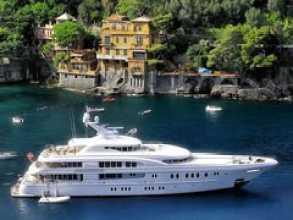otherboat: (37, 195, 71, 204)
yacht: (9, 111, 278, 196)
